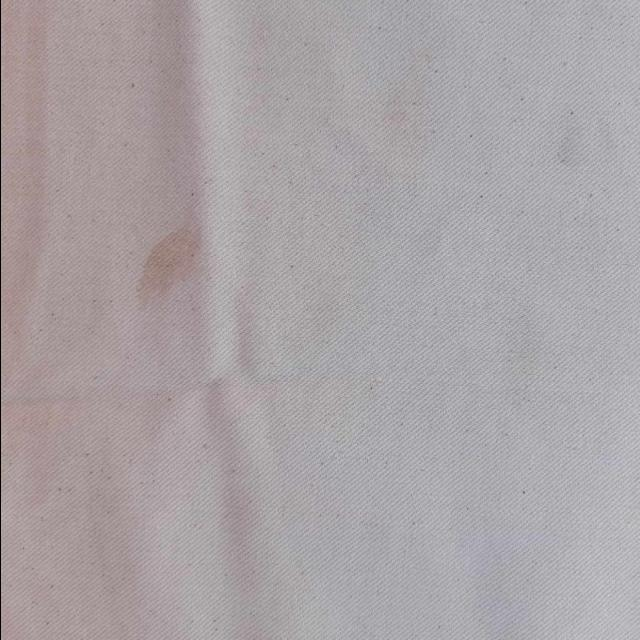taaaches: (128, 221, 204, 317)
